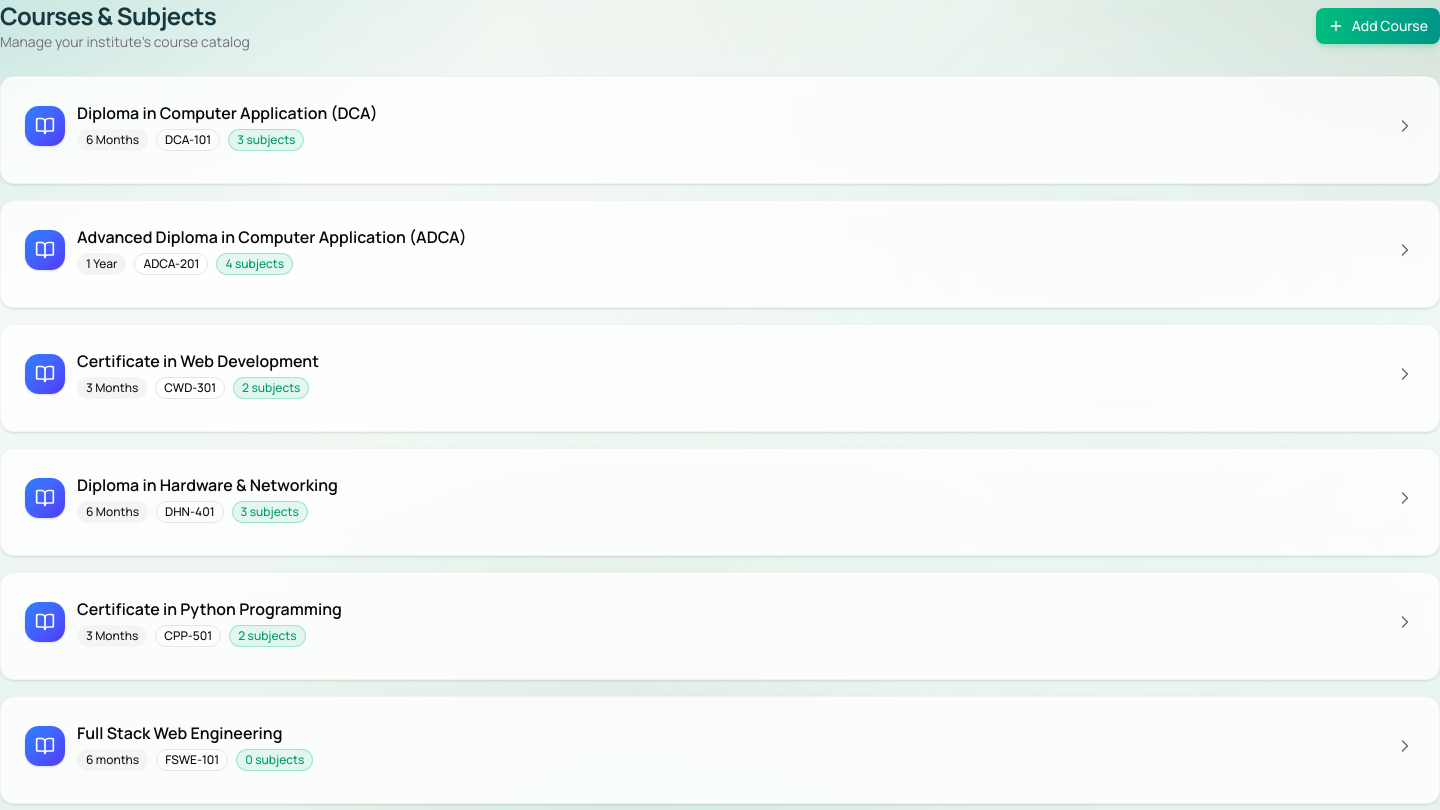
Test case: AdminCourses Integration Tests › should display validation errors when adding an empty subject (Negative Test)
Click the text "Diploma in Computer Application (DCA)".
click(227, 113)  # box [77,101,378,125]
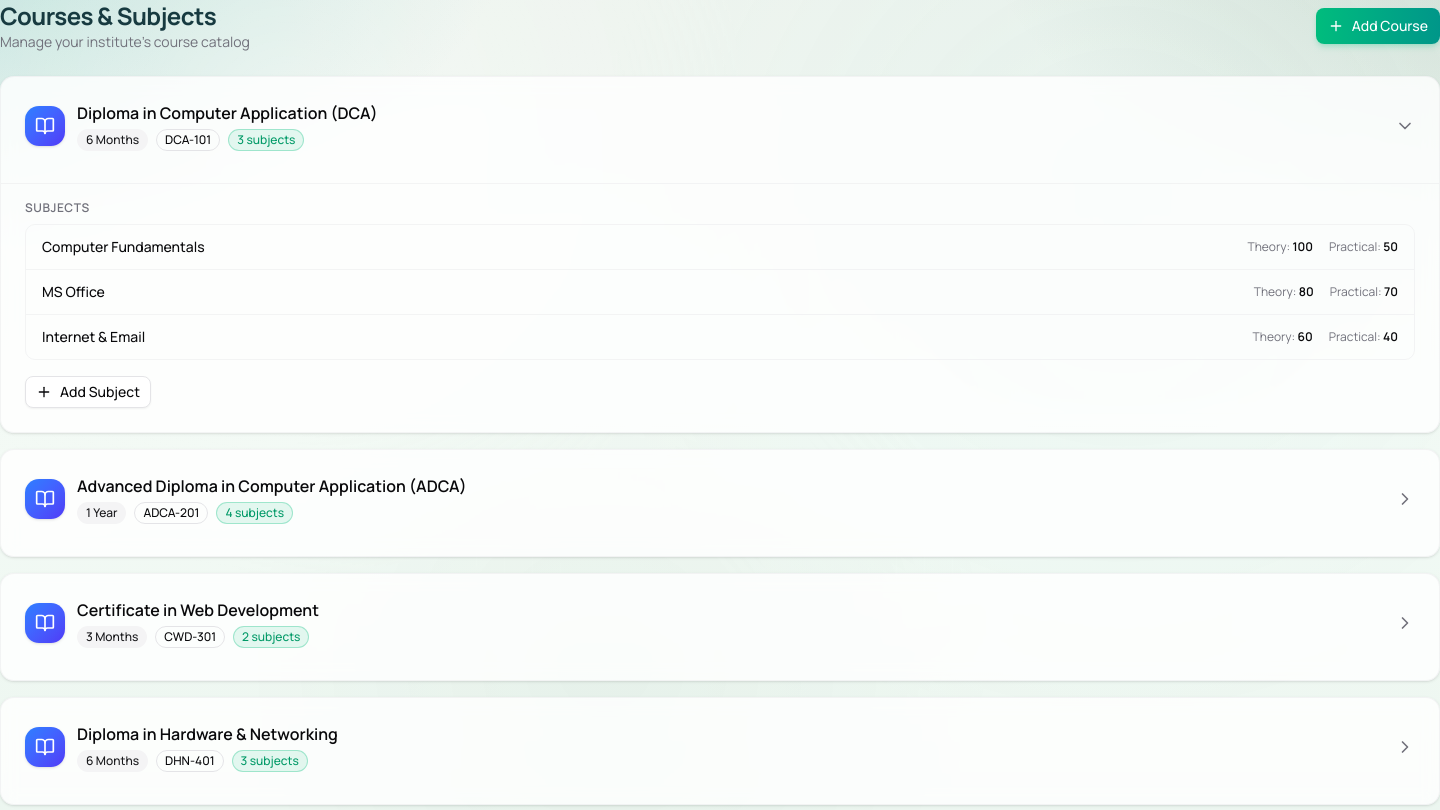
Click the button "Add Subject".
click(88, 392)  # box [25,376,151,408]
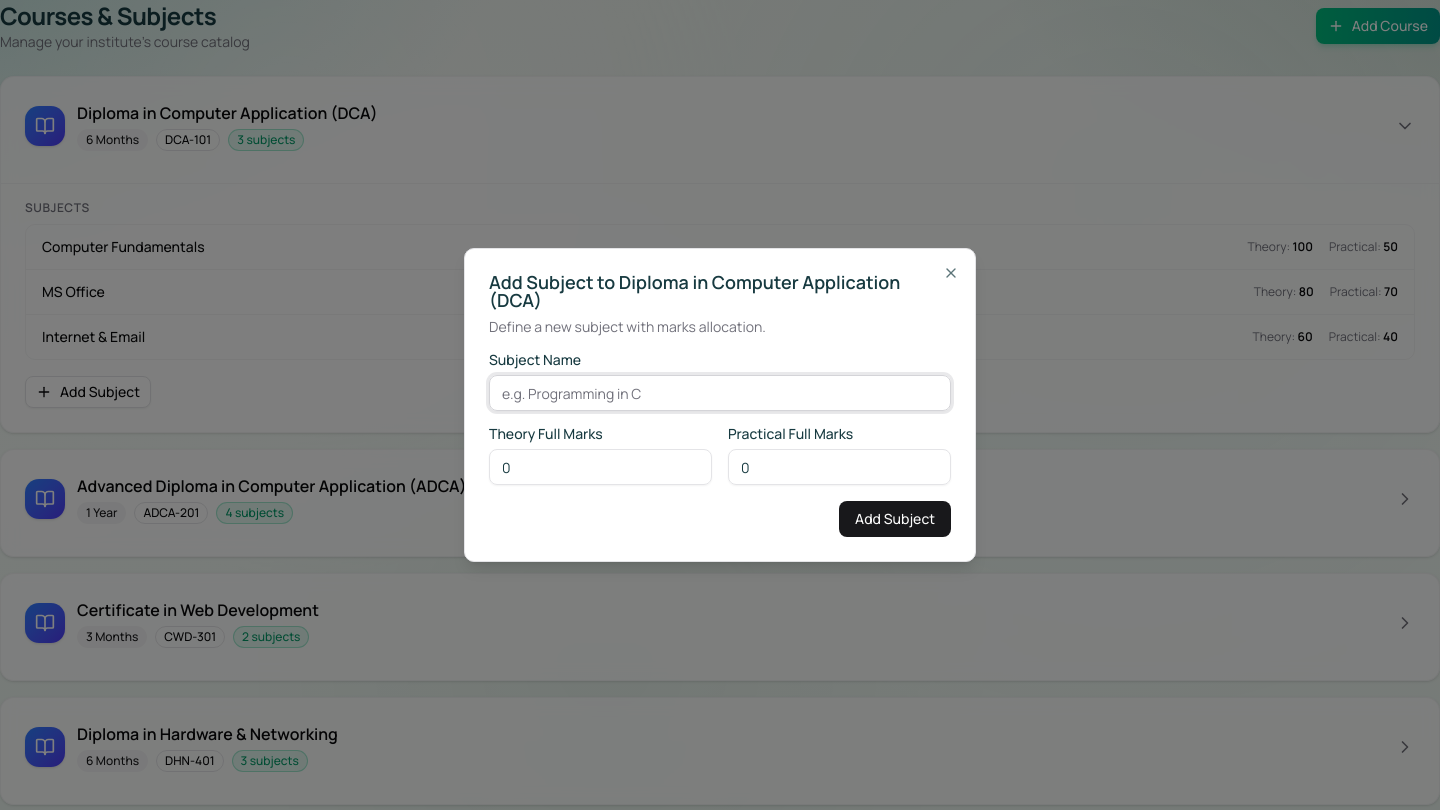
Click the button "Add Subject".
click(895, 519)  # box [839,501,951,537]
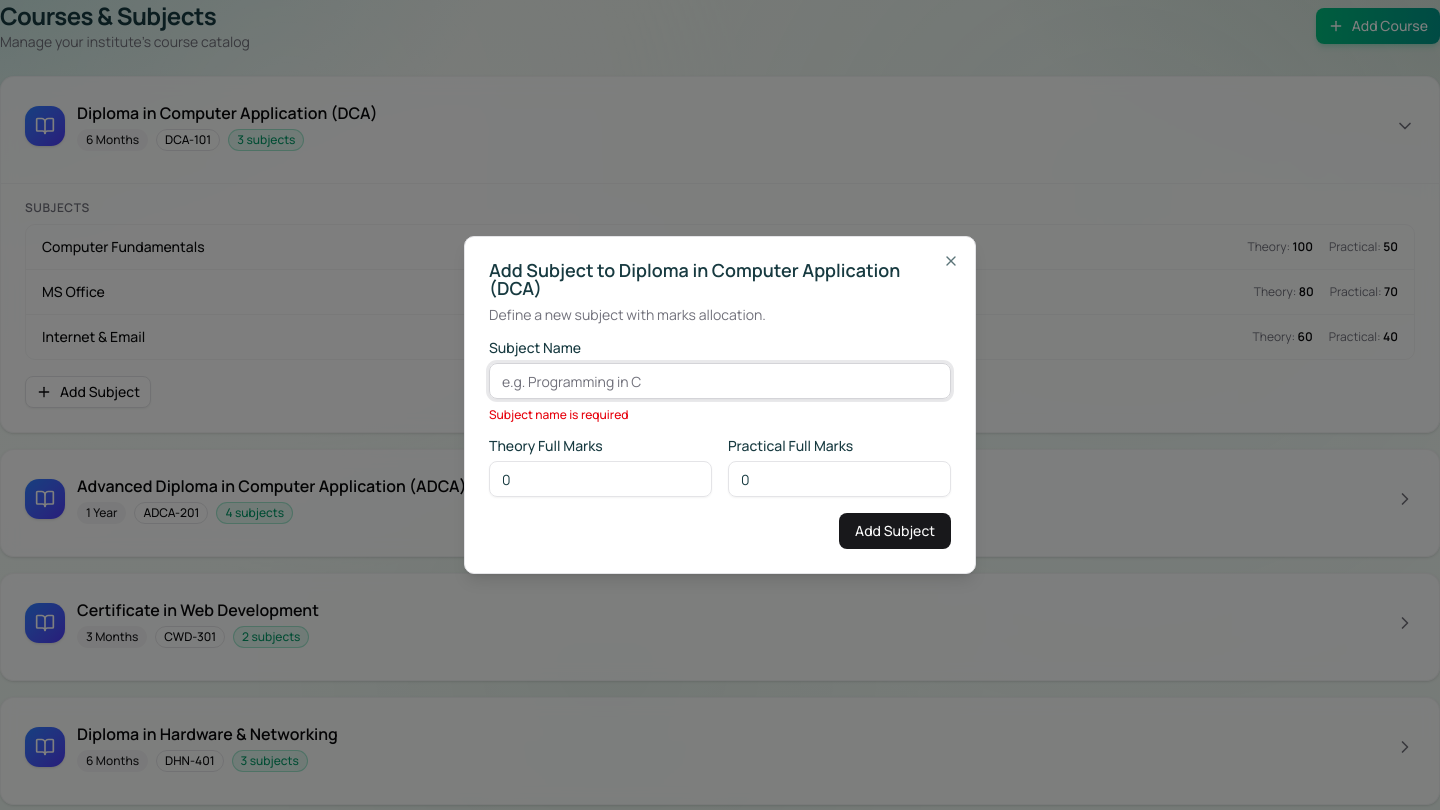
Check: the text "Subject name is required" is shown, box [489,406,628,423]
